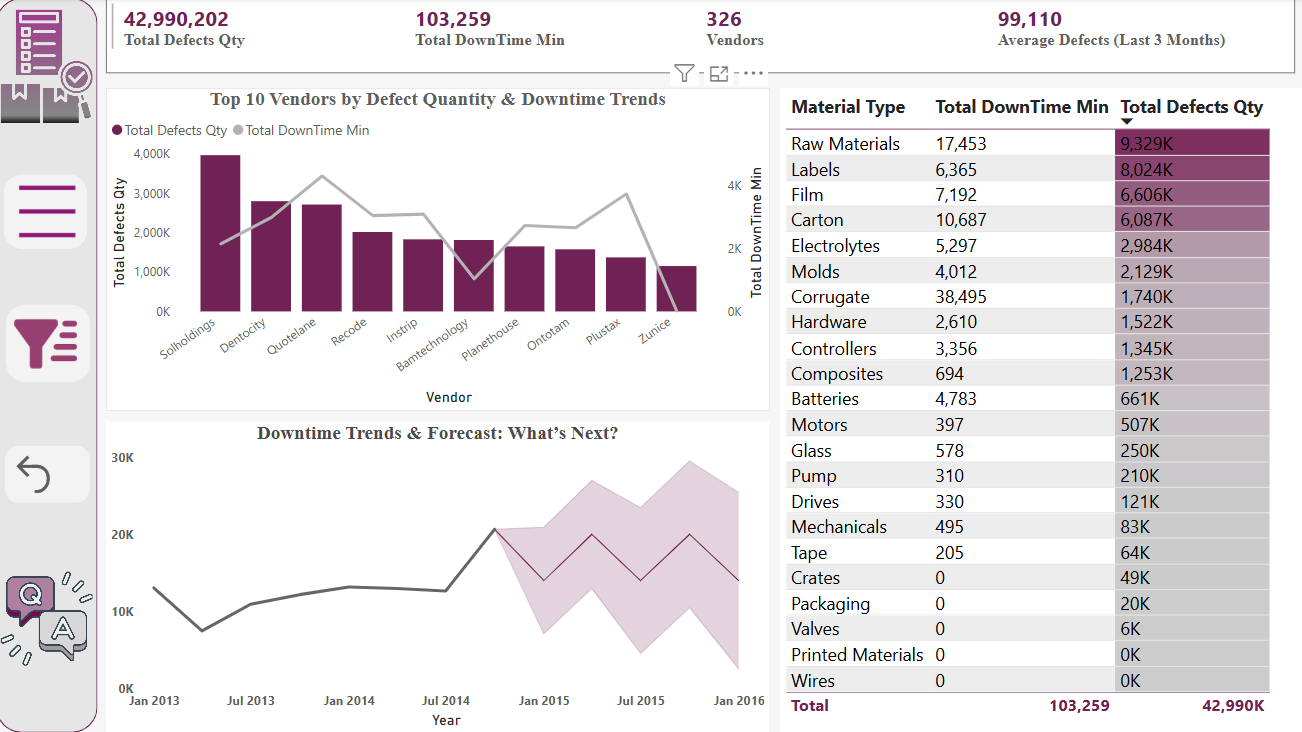

This screenshot's page, from the dashboard's own definition file:
{"tool":"powerbi","page":{"name":"Details","canvas":[1280,720],"ordinal":2},"visuals":[{"type":"multiRowCard","fields":{"Values":["_Measure.Total Defects Qty","_Measure.Total DownTime Min","_Measure.Vendors","_Measure.Defect Rate (Last 3 Months)"]},"box":[108,0,1163.1,73.2],"z":0},{"type":"lineStackedColumnComboChart","title":"Top 10 Vendors by Defect Quantity & Downtime Trends","fields":{"Y2":["_Measure.Total DownTime Min"],"Category":["Dim_Vendor.Vendor"],"Y":["_Measure.Total Defects Qty"]},"box":[108,88.1,649.2,315.3],"z":1000},{"type":"tableEx","fields":{"Values":["Dim_Material Type.Material Type","_Measure.Total DownTime Min","_Measure.Total Defects Qty"]},"box":[767.1,88.2,513.2,631.6],"z":2000},{"type":"shape","box":[0,0,99.3,718.7],"z":3000},{"type":"actionButton","box":[9,437.3,83.4,56.4],"z":4000},{"type":"actionButton","box":[10.1,299.8,82.3,76.6],"z":5000},{"type":"image","box":[9,299.8,78.9,77.8],"z":6000},{"type":"actionButton","box":[7.3,172.4,81.9,73.4],"z":7000},{"type":"image","box":[11,172.4,78.3,73.4],"z":8000},{"type":"lineChart","title":"Downtime Trends & Forecast: What’s Next?","fields":{"Y":["_Measure.Total DownTime Min"],"Category":["Dim_Calendar.Date.Variation.Date Hierarchy.Year","Dim_Calendar.Date.Variation.Date Hierarchy.Quarter","Dim_Calendar.Date.Variation.Date Hierarchy.Month","Dim_Calendar.Date.Variation.Date Hierarchy.Day"]},"box":[108,414.6,649.2,305.4],"z":9000},{"type":"image","box":[0,0,99.2,134.1],"z":12000},{"type":"image","box":[0,556.4,99,101.5],"z":13000}]}

Visuals, with their boxes on the page's 1280x720 design canvas (x1, y1, x2, y2). These are canvas units, not pixel positions in the 1302x732 screenshot, which may show the page scaled, cropped or inside an application window:
multiRowCard - _Measure.Total Defects Qty x _Measure.Total DownTime Min: {"left": 108, "top": 0, "right": 1271, "bottom": 73}
"Top 10 Vendors by Defect Quantity & Downtime Trends" lineStackedColumnComboChart: {"left": 108, "top": 88, "right": 757, "bottom": 403}
tableEx - Dim_Material Type.Material Type x _Measure.Total DownTime Min: {"left": 767, "top": 88, "right": 1280, "bottom": 720}
shape: {"left": 0, "top": 0, "right": 99, "bottom": 719}
actionButton: {"left": 9, "top": 437, "right": 92, "bottom": 494}
actionButton: {"left": 10, "top": 300, "right": 92, "bottom": 376}
image: {"left": 9, "top": 300, "right": 88, "bottom": 378}
actionButton: {"left": 7, "top": 172, "right": 89, "bottom": 246}
image: {"left": 11, "top": 172, "right": 89, "bottom": 246}
"Downtime Trends & Forecast: What’s Next?" lineChart: {"left": 108, "top": 415, "right": 757, "bottom": 720}
image: {"left": 0, "top": 0, "right": 99, "bottom": 134}
image: {"left": 0, "top": 556, "right": 99, "bottom": 658}
